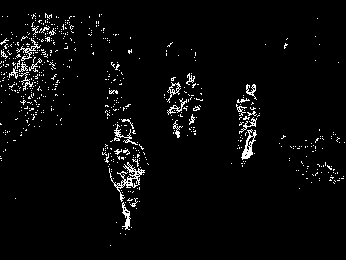person: (101, 118, 150, 229), (235, 83, 259, 161), (182, 70, 202, 137), (103, 61, 126, 117), (165, 76, 183, 138)
